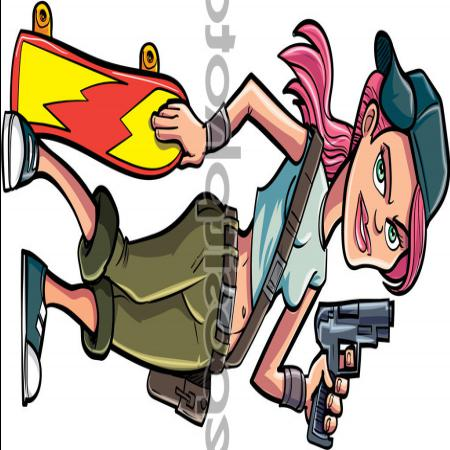Pistol: (304, 300, 396, 450)
